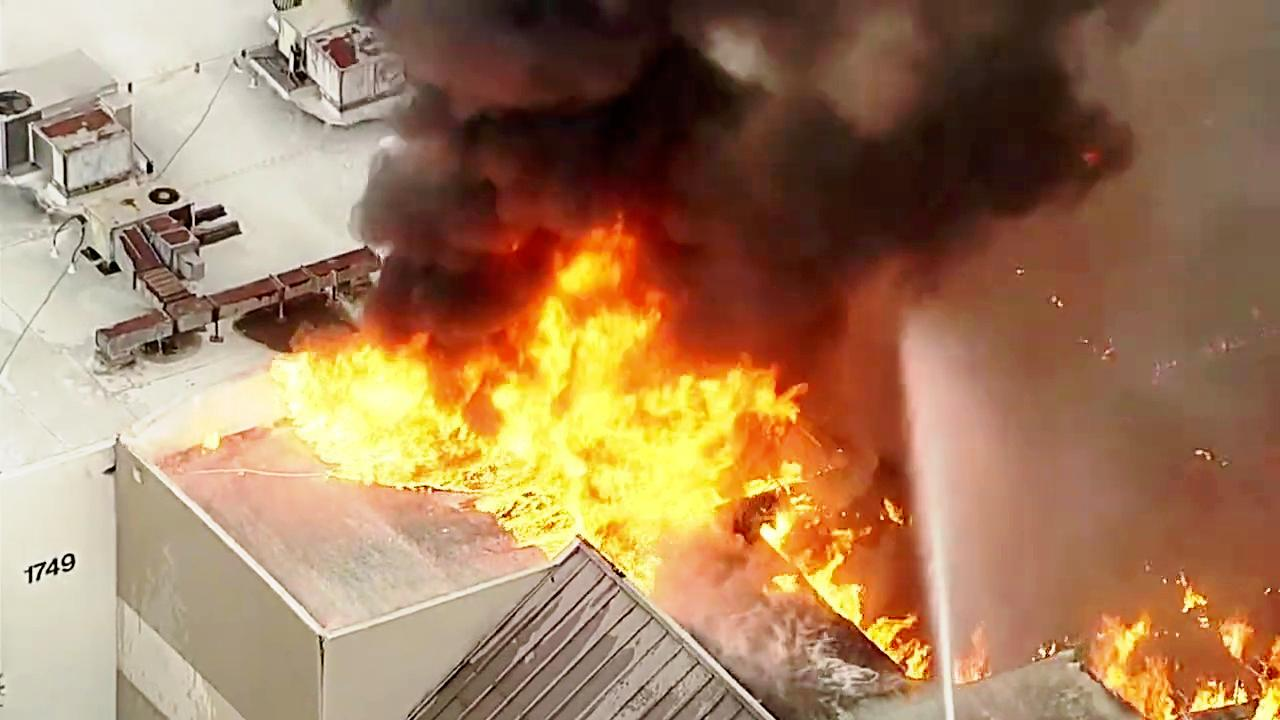fire: (459, 212, 677, 538), (630, 335, 814, 516), (277, 314, 457, 498), (1079, 592, 1264, 720)
smoke: (398, 0, 864, 270)
